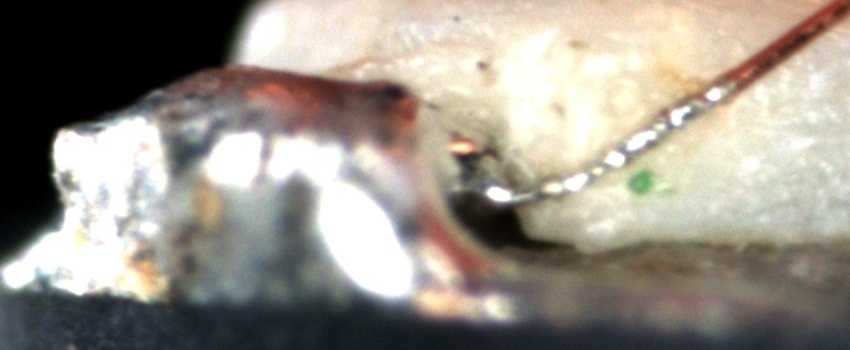DL: (693, 101, 849, 165)
TS: (480, 75, 737, 206)
TTCW: (491, 41, 773, 206)
